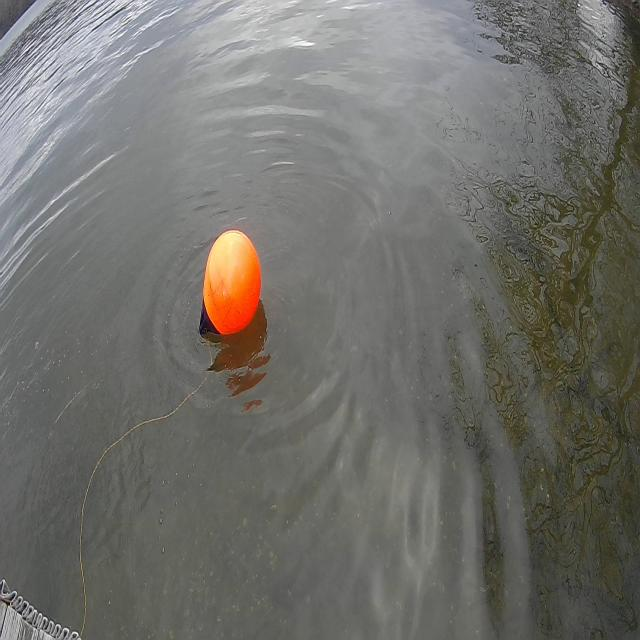Buoy: (201, 226, 263, 342)
